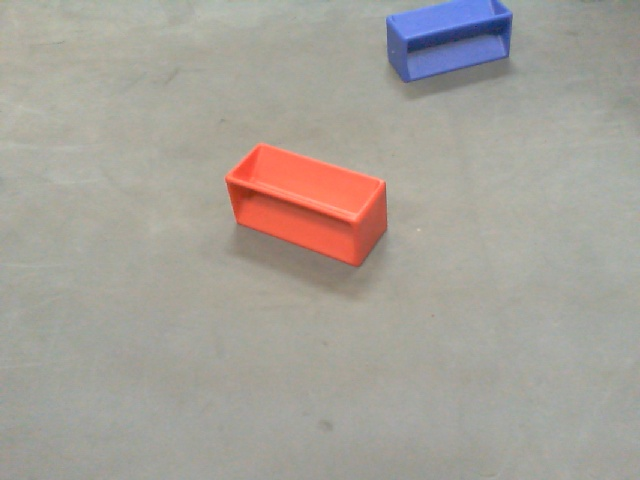BlueSample: (380, 1, 514, 86)
RedSample: (222, 141, 390, 268)
